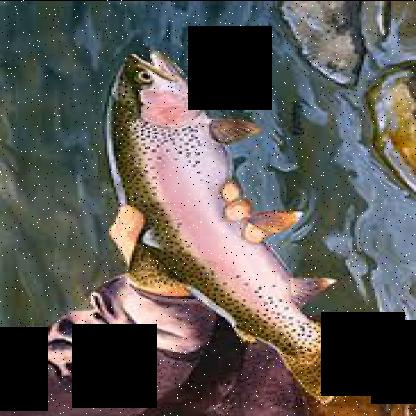fish: (100, 51, 372, 409)
